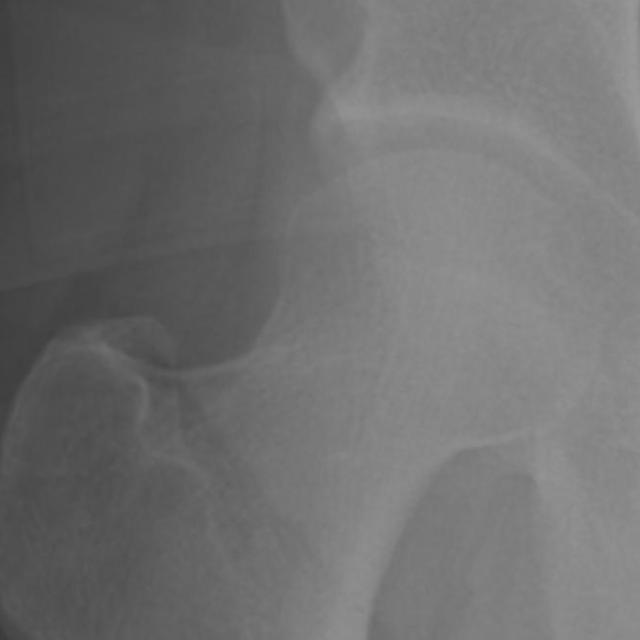Fitted_femural_head: (338, 149, 432, 338)
